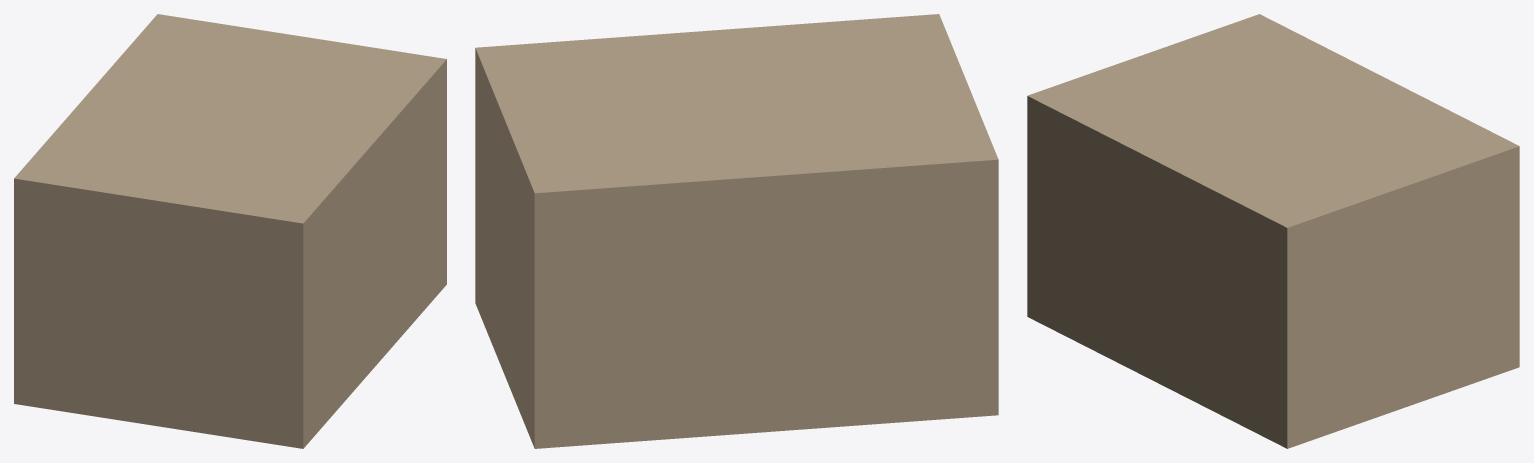
File: bld_101374785.dae
3 views of the same model, side by side, from view 1: azimuth 30°, elevation 25°; view 2: azimuth 150°, elevation 25°; view 3: azimuth 270°, elevation 25° (orthographic). The views are drawn at different scales.
Parts seen in each view (by area): view 1: bld_101374785; view 2: bld_101374785; view 3: bld_101374785.
Part boxes in pixels (<box>): bld_101374785: <box>14,14,446,448</box>; bld_101374785: <box>475,14,998,448</box>; bld_101374785: <box>1027,14,1519,448</box>.
Bounding box in the file's own units: 16.61 × 16.16 × 8.
